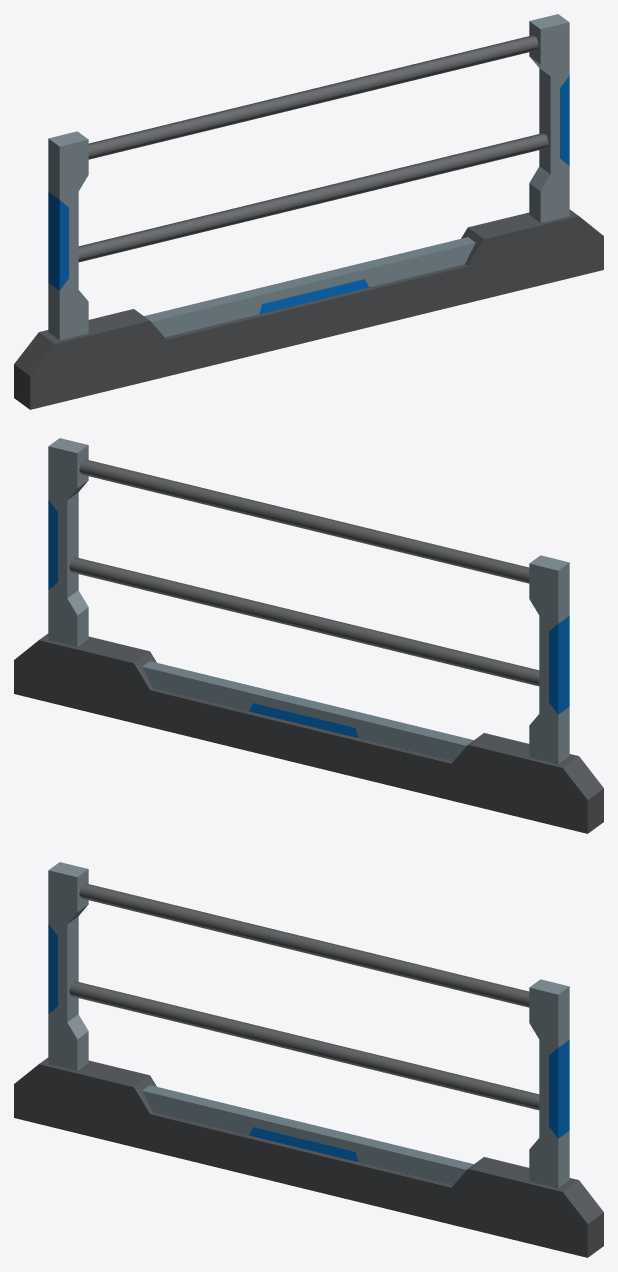
File: Fence_type_B_005.fbx
3 views of the same model, one above another, from view 1: azimuth 30°, elevation 25°; view 2: azimuth 150°, elevation 25°; view 3: azimuth 330°, elevation 25° (orthographic).
Visible parts, largest first — view 1: Fence_type_B_005; view 2: Fence_type_B_005; view 3: Fence_type_B_005.
Part boxes in pixels (x1,y1,x2,y2): Fence_type_B_005: (14, 14, 603, 409); Fence_type_B_005: (14, 438, 603, 833); Fence_type_B_005: (14, 862, 603, 1257).
Size of the model in its own units: 337 by 16.53 by 142.
